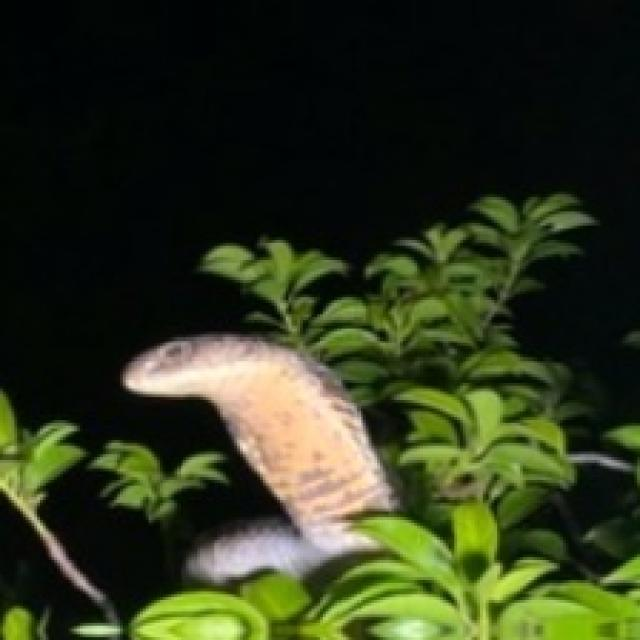king cobra: (123, 334, 394, 583)
